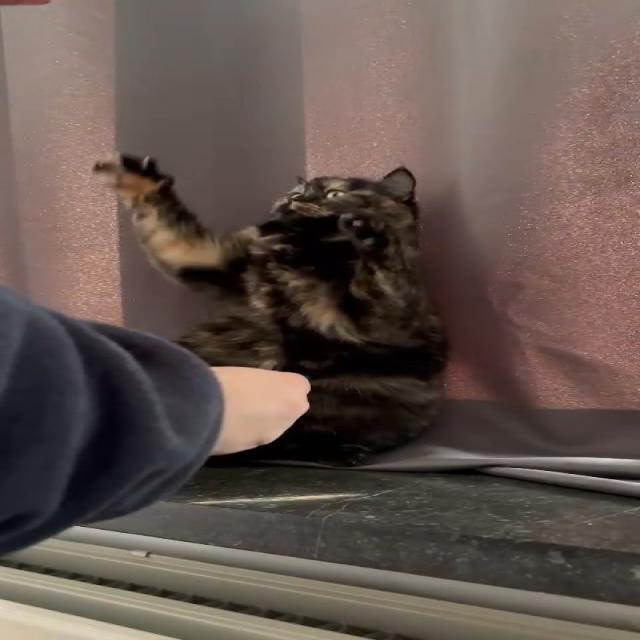authorized: (90, 150, 450, 467)
